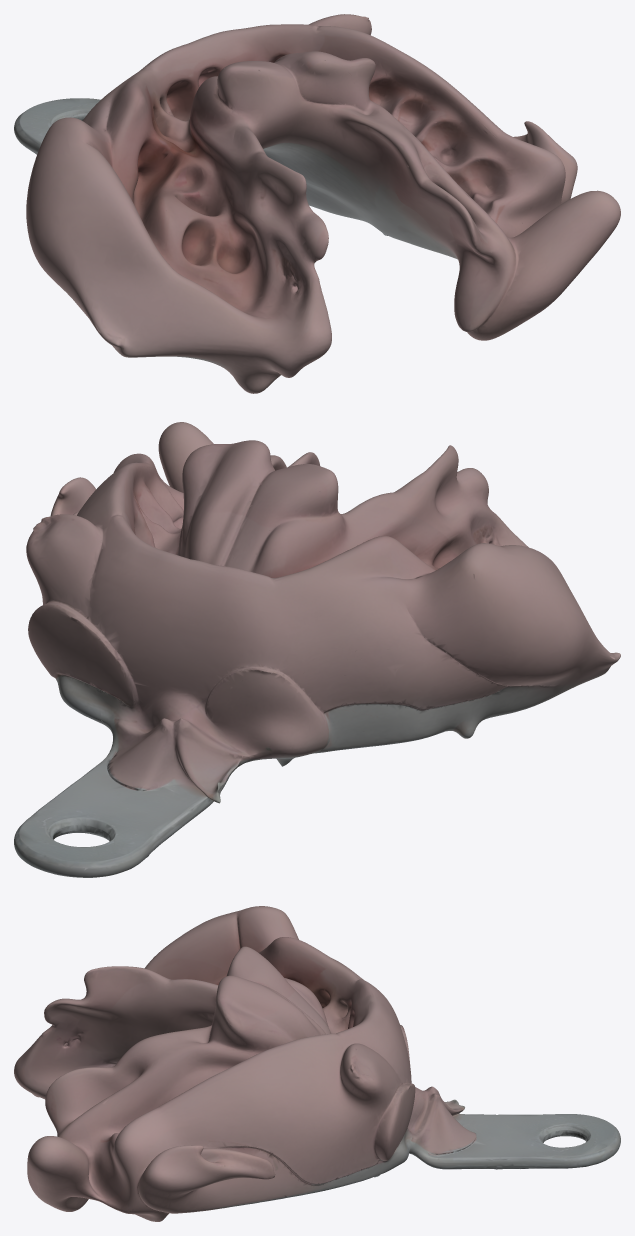
The model's file is lower-qualified-impression.glb.
3 renders of one model, top to bottom at view 1: azimuth 30°, elevation 25°; view 2: azimuth 150°, elevation 25°; view 3: azimuth 270°, elevation 25°, orthographic. The views are drawn at different scales.
Visible parts, largest first — view 1: node_0; view 2: node_0; view 3: node_0.
Part boxes in pixels (x1,y1,x2,y2): node_0: (14,14,620,393); node_0: (14,422,620,877); node_0: (14,906,620,1221).
Bounding box in the file's own units: 0.8295 × 0.3721 × 1.01.
1 material, 1 textured.
